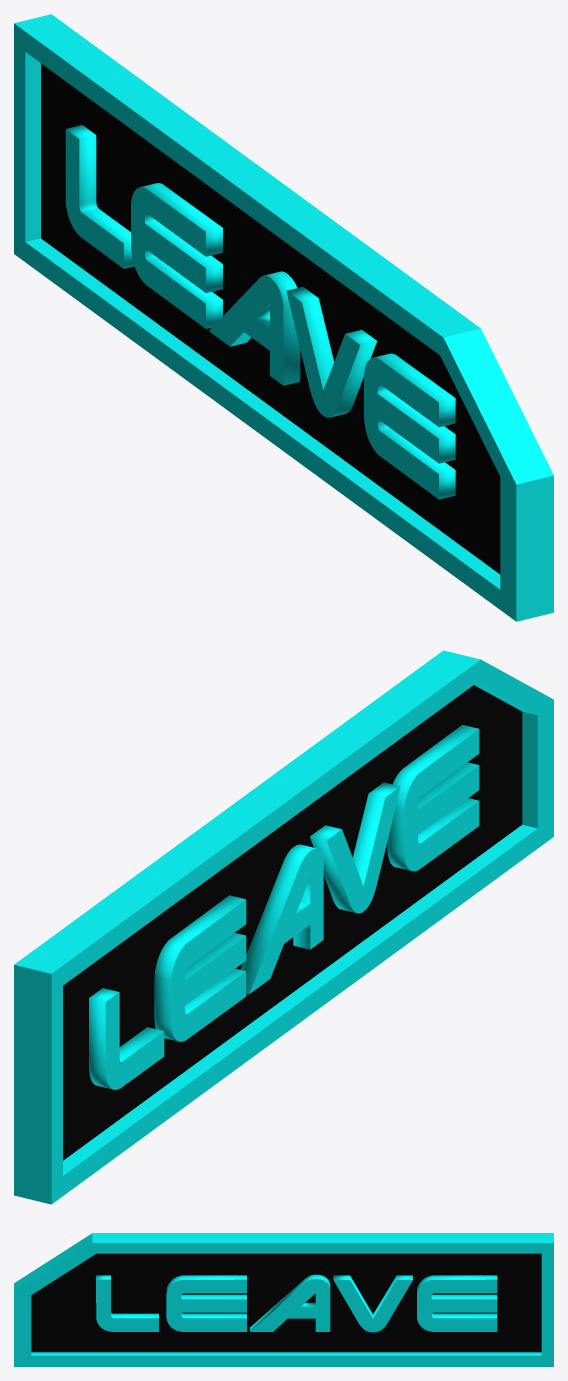
File: leave.fbx
3 renders of one model, top to bottom at view 1: azimuth 30°, elevation 25°; view 2: azimuth 150°, elevation 25°; view 3: azimuth 270°, elevation 25°, orthographic. The views are drawn at different scales.
Visible parts, largest first — view 1: Text.001; view 2: Text.001; view 3: Text.001.
Part boxes in pixels (x1=…): Text.001: x1=14, y1=14, x2=553, y2=621; Text.001: x1=14, y1=650, x2=553, y2=1204; Text.001: x1=14, y1=1233, x2=553, y2=1366.
Bounding box in the file's own units: 28.19 × 146 × 576.
